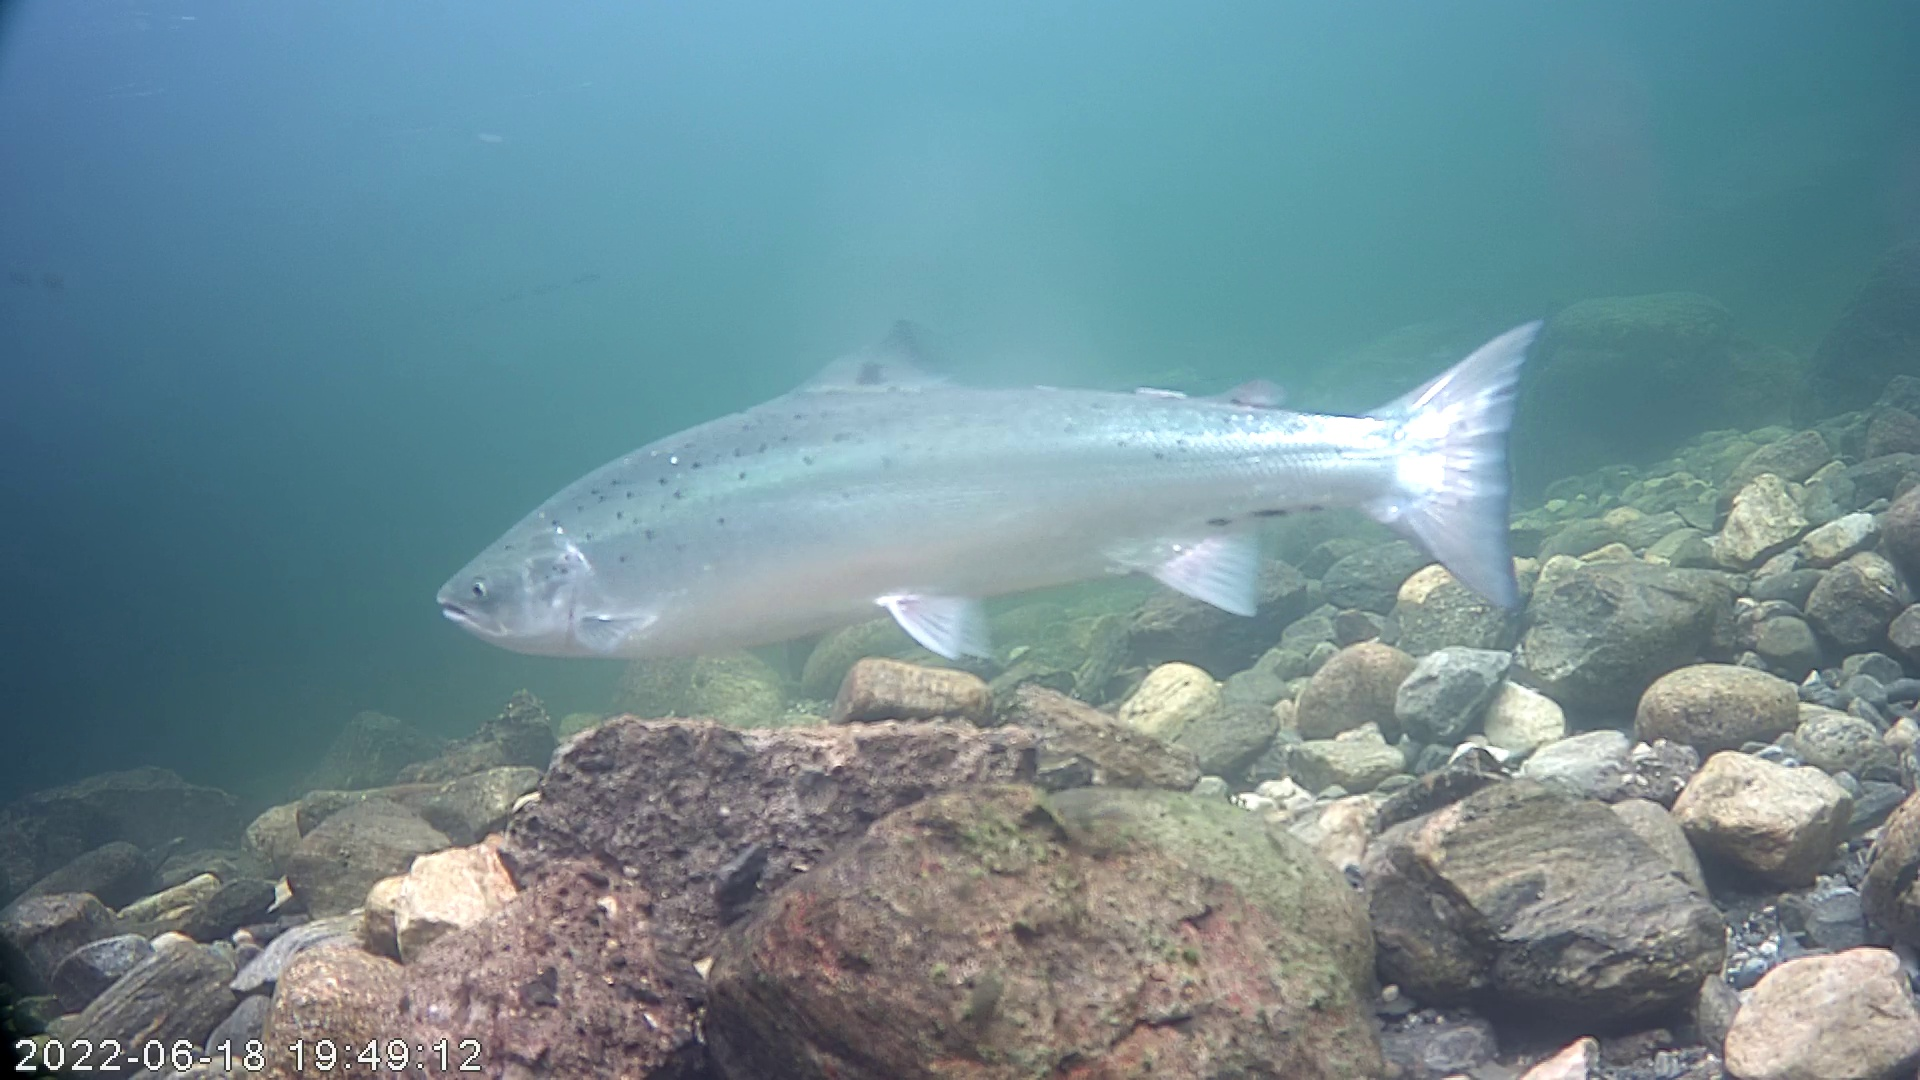salmon: (434, 313, 1549, 661)
